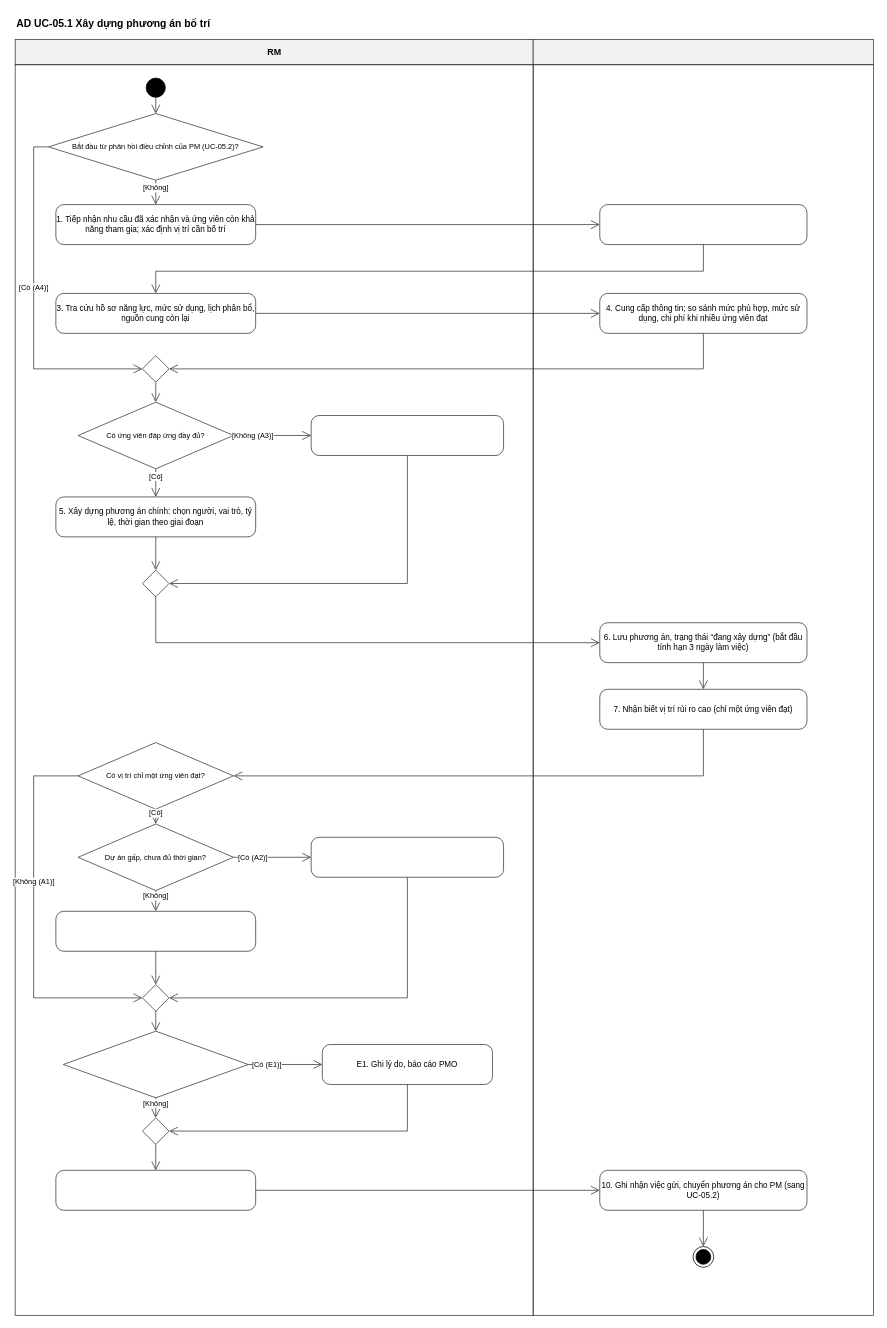
Image size: 887x1328. Some labels were removed from this diagram. The shapes that lost their labels are listed below. From the top down, each one's centre as x and y in pixels, then its label:
At (x=703, y=52): "Hệ thống".
At (x=703, y=224): "2. Hiển thị theo vị trí: nhu cầu, ứng viên, kết luận khả năng tham gia (V5)".
At (x=407, y=435): "A3. Lập phương án “chấp nhận một phần”, ghi mức thiếu hụt".
At (x=407, y=857): "A2. Lập phương án chính duy nhất, ghi lý do và cảnh báo rủi ro".
At (x=155, y=931): "8. Lập phương án thay thế hoặc biện pháp giảm thiểu rủi ro".
At (x=155, y=1064): "Quá 3 ngày làm việc ở “đang xây dựng”?".
At (x=155, y=1190): "9. Gửi phương án bố trí (chính và thay thế) cho PM xem xét".
